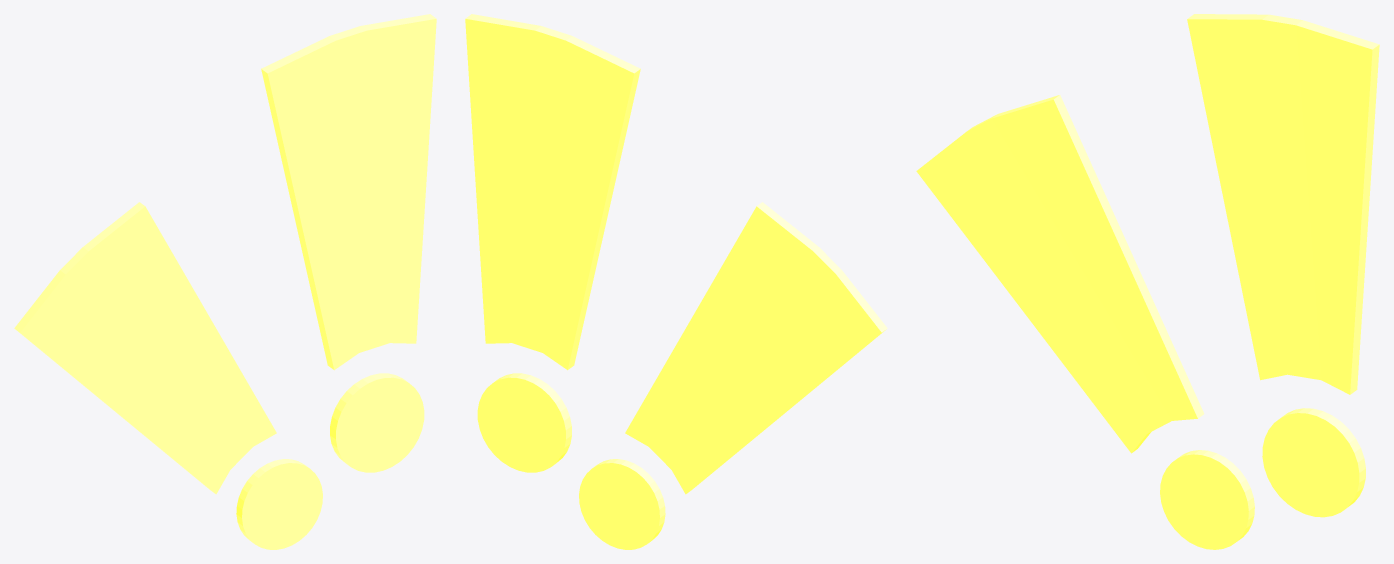
The model's file is npcIndicator1.fbx.
3 renders of one model, left to right at view 1: azimuth 30°, elevation 25°; view 2: azimuth 150°, elevation 25°; view 3: azimuth 330°, elevation 25°, orthographic. The views are drawn at different scales.
Visible parts, largest first — view 1: Cube.009; view 2: Cube.009; view 3: Cube.009.
Part boxes in pixels (x1,y1,x2,y2): Cube.009: [14, 14, 436, 549]; Cube.009: [465, 14, 887, 549]; Cube.009: [916, 14, 1379, 549].
Size of the model in its own units: 799 by 914 by 21.63.
